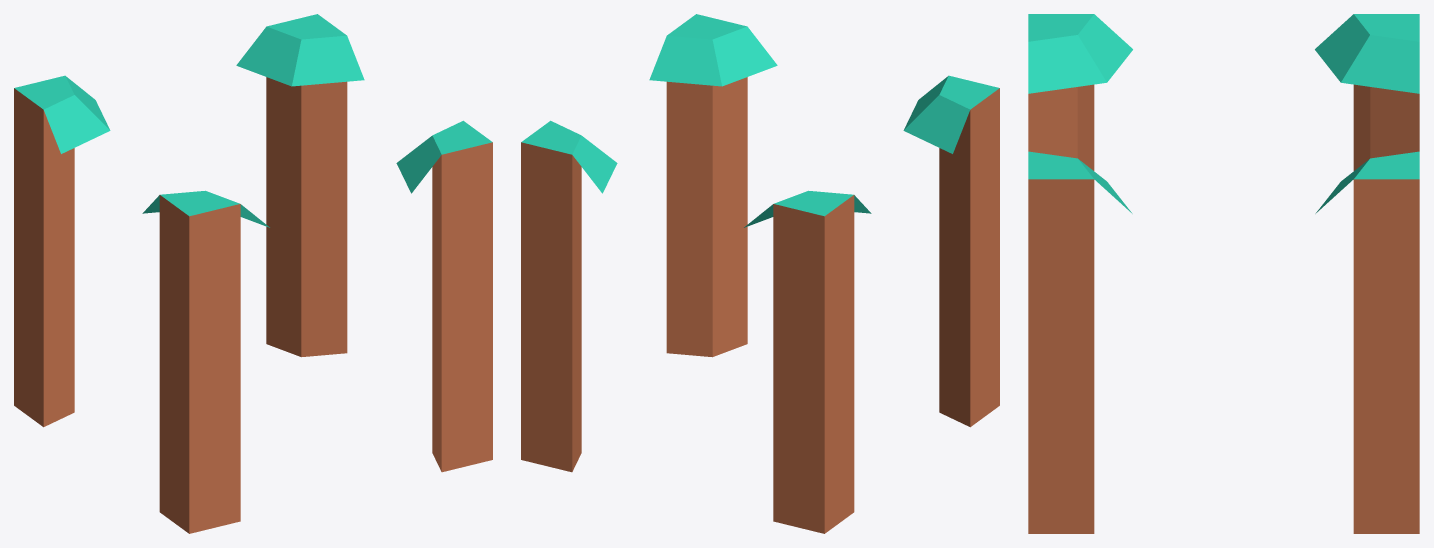
File: hill_4corner.obj
The picture shows the model from 3 angles, left to right: view 1: azimuth 30°, elevation 25°; view 2: azimuth 150°, elevation 25°; view 3: azimuth 270°, elevation 25°; orthographic projection. The views are drawn at different scales.
Parts seen in each view (by area): view 1: cliff_cornerTop_rock, cliff_cornerTop_rock.002, cliff_cornerTop_rock.003, cliff_cornerTop_rock.001; view 2: cliff_cornerTop_rock.001, cliff_cornerTop_rock.003, cliff_cornerTop_rock.002, cliff_cornerTop_rock; view 3: cliff_cornerTop_rock, cliff_cornerTop_rock.001, cliff_cornerTop_rock.002, cliff_cornerTop_rock.003.
Part boxes in pixels (box(x1,y1,x2,y2)): cliff_cornerTop_rock: box(236, 14, 364, 357); cliff_cornerTop_rock.002: box(142, 190, 269, 533); cliff_cornerTop_rock.003: box(14, 75, 110, 427); cliff_cornerTop_rock.001: box(396, 120, 492, 472); cliff_cornerTop_rock.001: box(649, 14, 777, 357); cliff_cornerTop_rock.003: box(744, 190, 871, 533); cliff_cornerTop_rock.002: box(903, 75, 999, 427); cliff_cornerTop_rock: box(521, 120, 617, 472); cliff_cornerTop_rock: box(1315, 151, 1419, 533); cliff_cornerTop_rock.001: box(1028, 151, 1132, 533); cliff_cornerTop_rock.002: box(1028, 14, 1132, 170); cliff_cornerTop_rock.003: box(1315, 14, 1419, 170).
Size of the model in its own units: 1 by 1 by 1.
